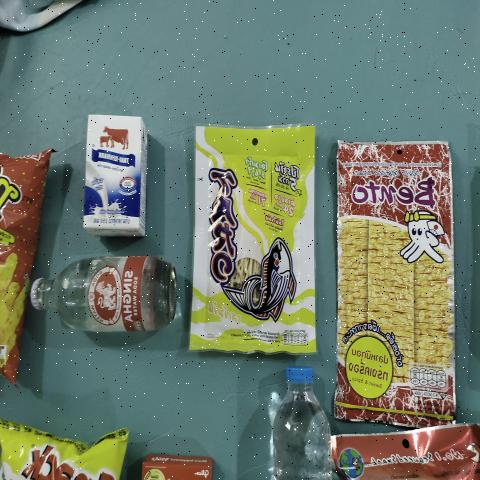bento_red: (338, 149, 448, 404)
singha_soda: (27, 248, 181, 338)
taro_yellow: (197, 130, 315, 348)
thai_denmark: (81, 112, 150, 239)
